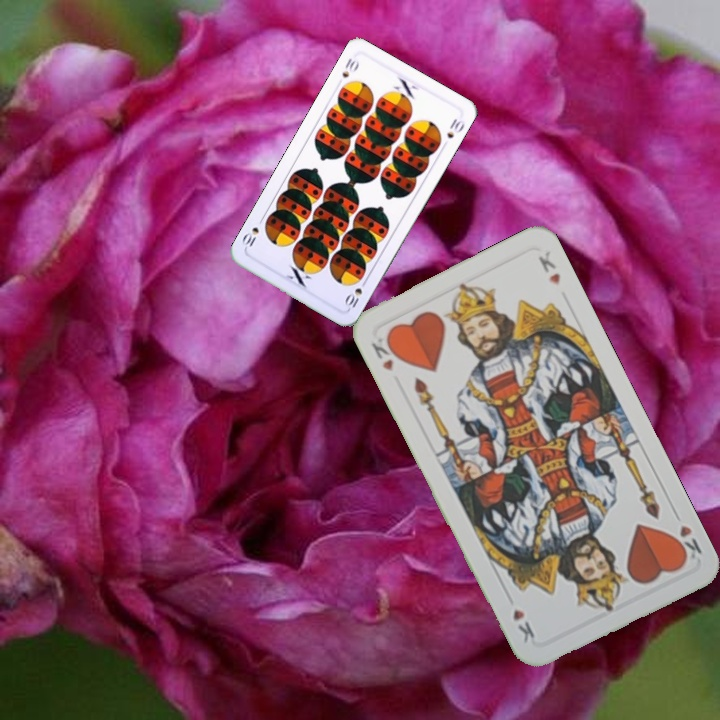HK: (668, 506, 704, 566), (367, 329, 402, 374)
S10: (341, 275, 370, 310), (338, 54, 362, 80)
